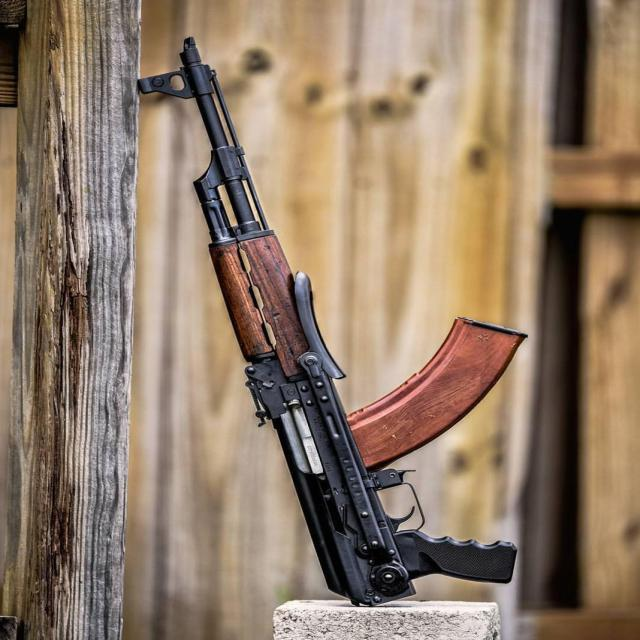ak: (132, 31, 522, 604)
